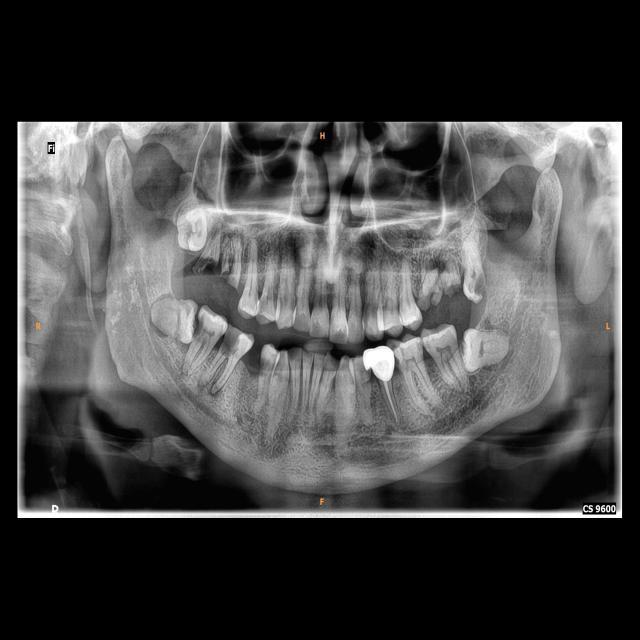dentin-curugu: (224, 325, 239, 355), (472, 272, 487, 298), (258, 358, 274, 378), (194, 314, 207, 338)
kanal-tedavisi: (384, 381, 401, 430)
kaplama: (364, 348, 396, 381)
kirik: (193, 252, 230, 284), (440, 276, 463, 296), (420, 290, 441, 311)
